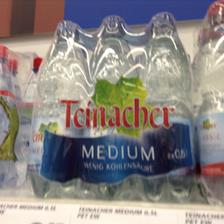Wasser: (135, 10, 197, 198), (28, 19, 84, 195), (84, 14, 136, 198)
